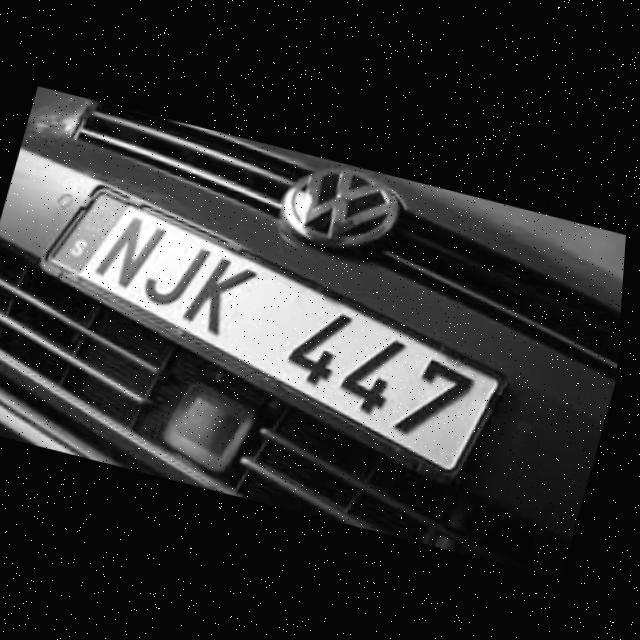license-plates: (43, 193, 502, 475)
